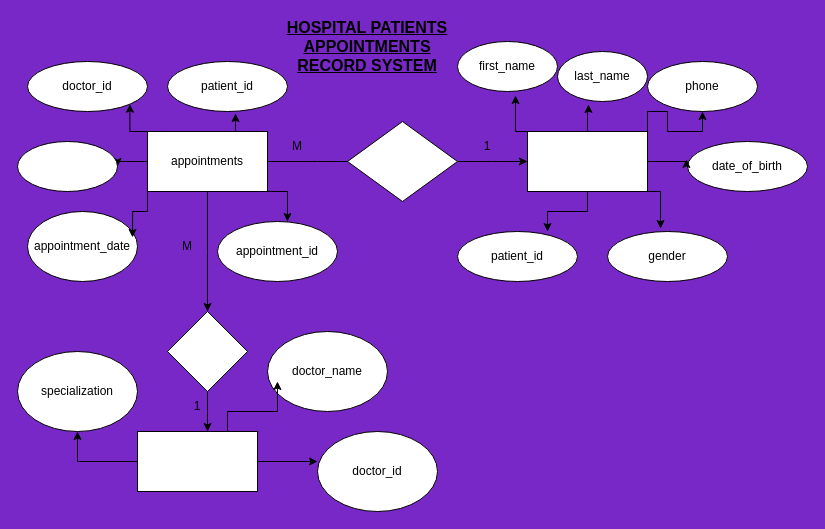
The diagram is 825 pixels wide and 529 high, and some of its shapes have lost their labels. Each missing label, with the centre of its shape:
"diagnosis" belongs at (x=67, y=166).
"doctors" belongs at (x=197, y=461).
"HAS" belongs at (x=207, y=351).
"IS BOOKED BY" belongs at (x=402, y=161).
"patients" belongs at (x=587, y=161).
